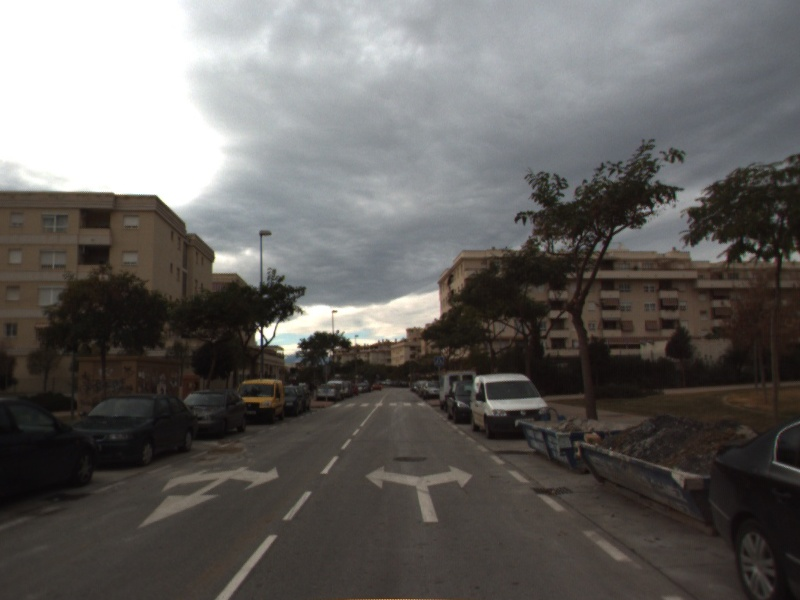LEFT_RIGHT: (363, 462, 475, 524)
